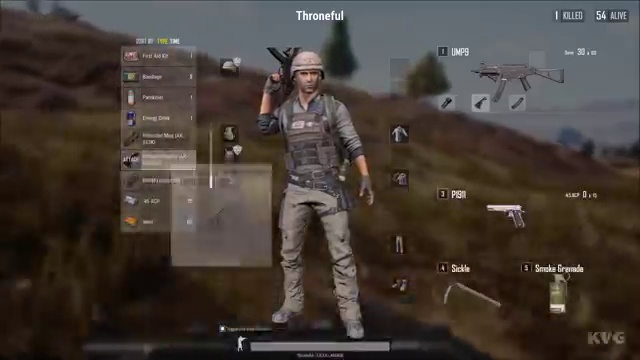Player: (256, 46, 367, 322)
